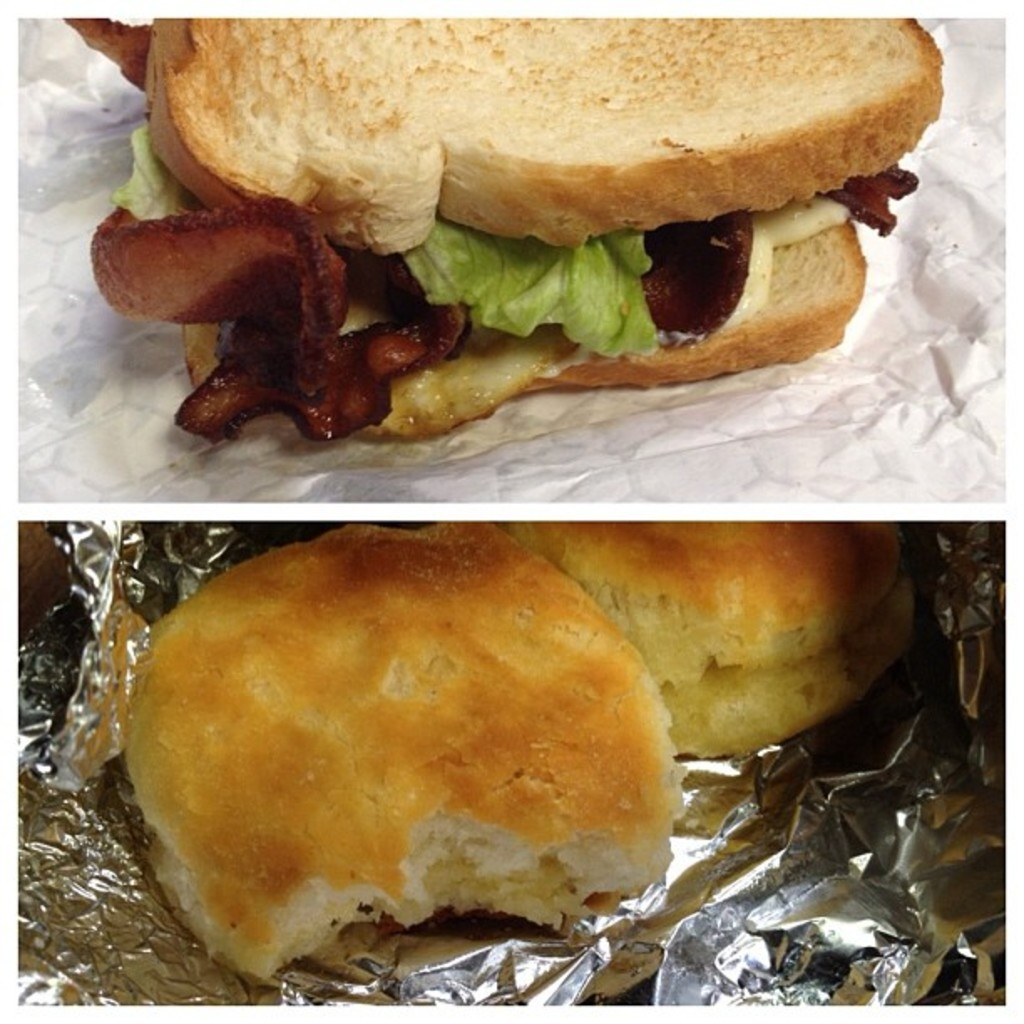Hamburger: (60, 0, 947, 441)
